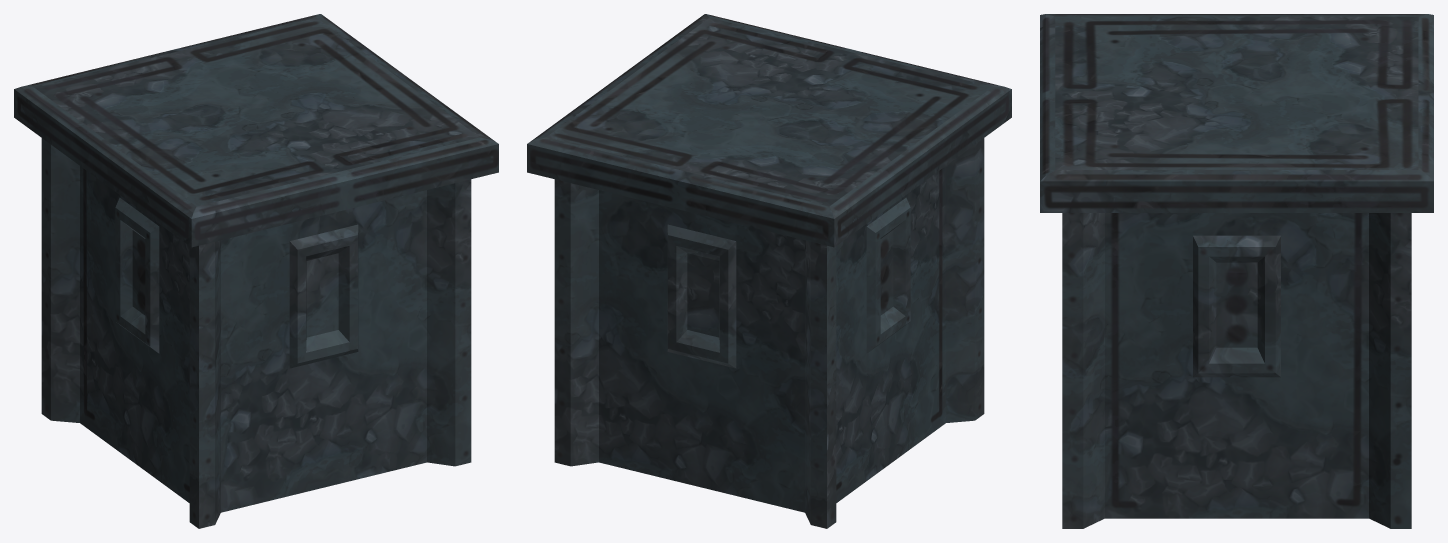
Rendered from pedestal.fbx.
3 views of the same model, side by side, from view 1: azimuth 30°, elevation 25°; view 2: azimuth 150°, elevation 25°; view 3: azimuth 270°, elevation 25° (orthographic). The views are drawn at different scales.
Visible parts, largest first — view 1: pedestal; view 2: pedestal; view 3: pedestal.
Part boxes in pixels (x1,y1,x2,y2): pedestal: [14, 14, 498, 528]; pedestal: [527, 14, 1011, 528]; pedestal: [1040, 14, 1433, 528].
Size of the model in its own units: 1281 by 1298 by 1281.
